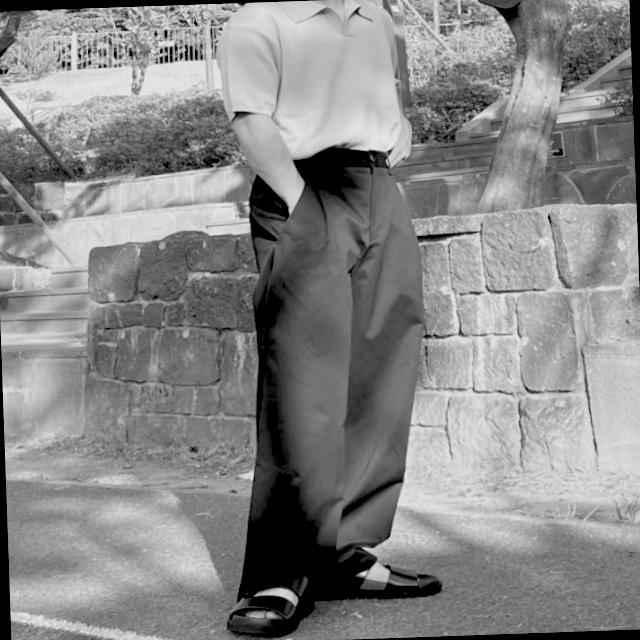cottonpants: (222, 139, 436, 597)
shortsleeve: (216, 0, 404, 160)
